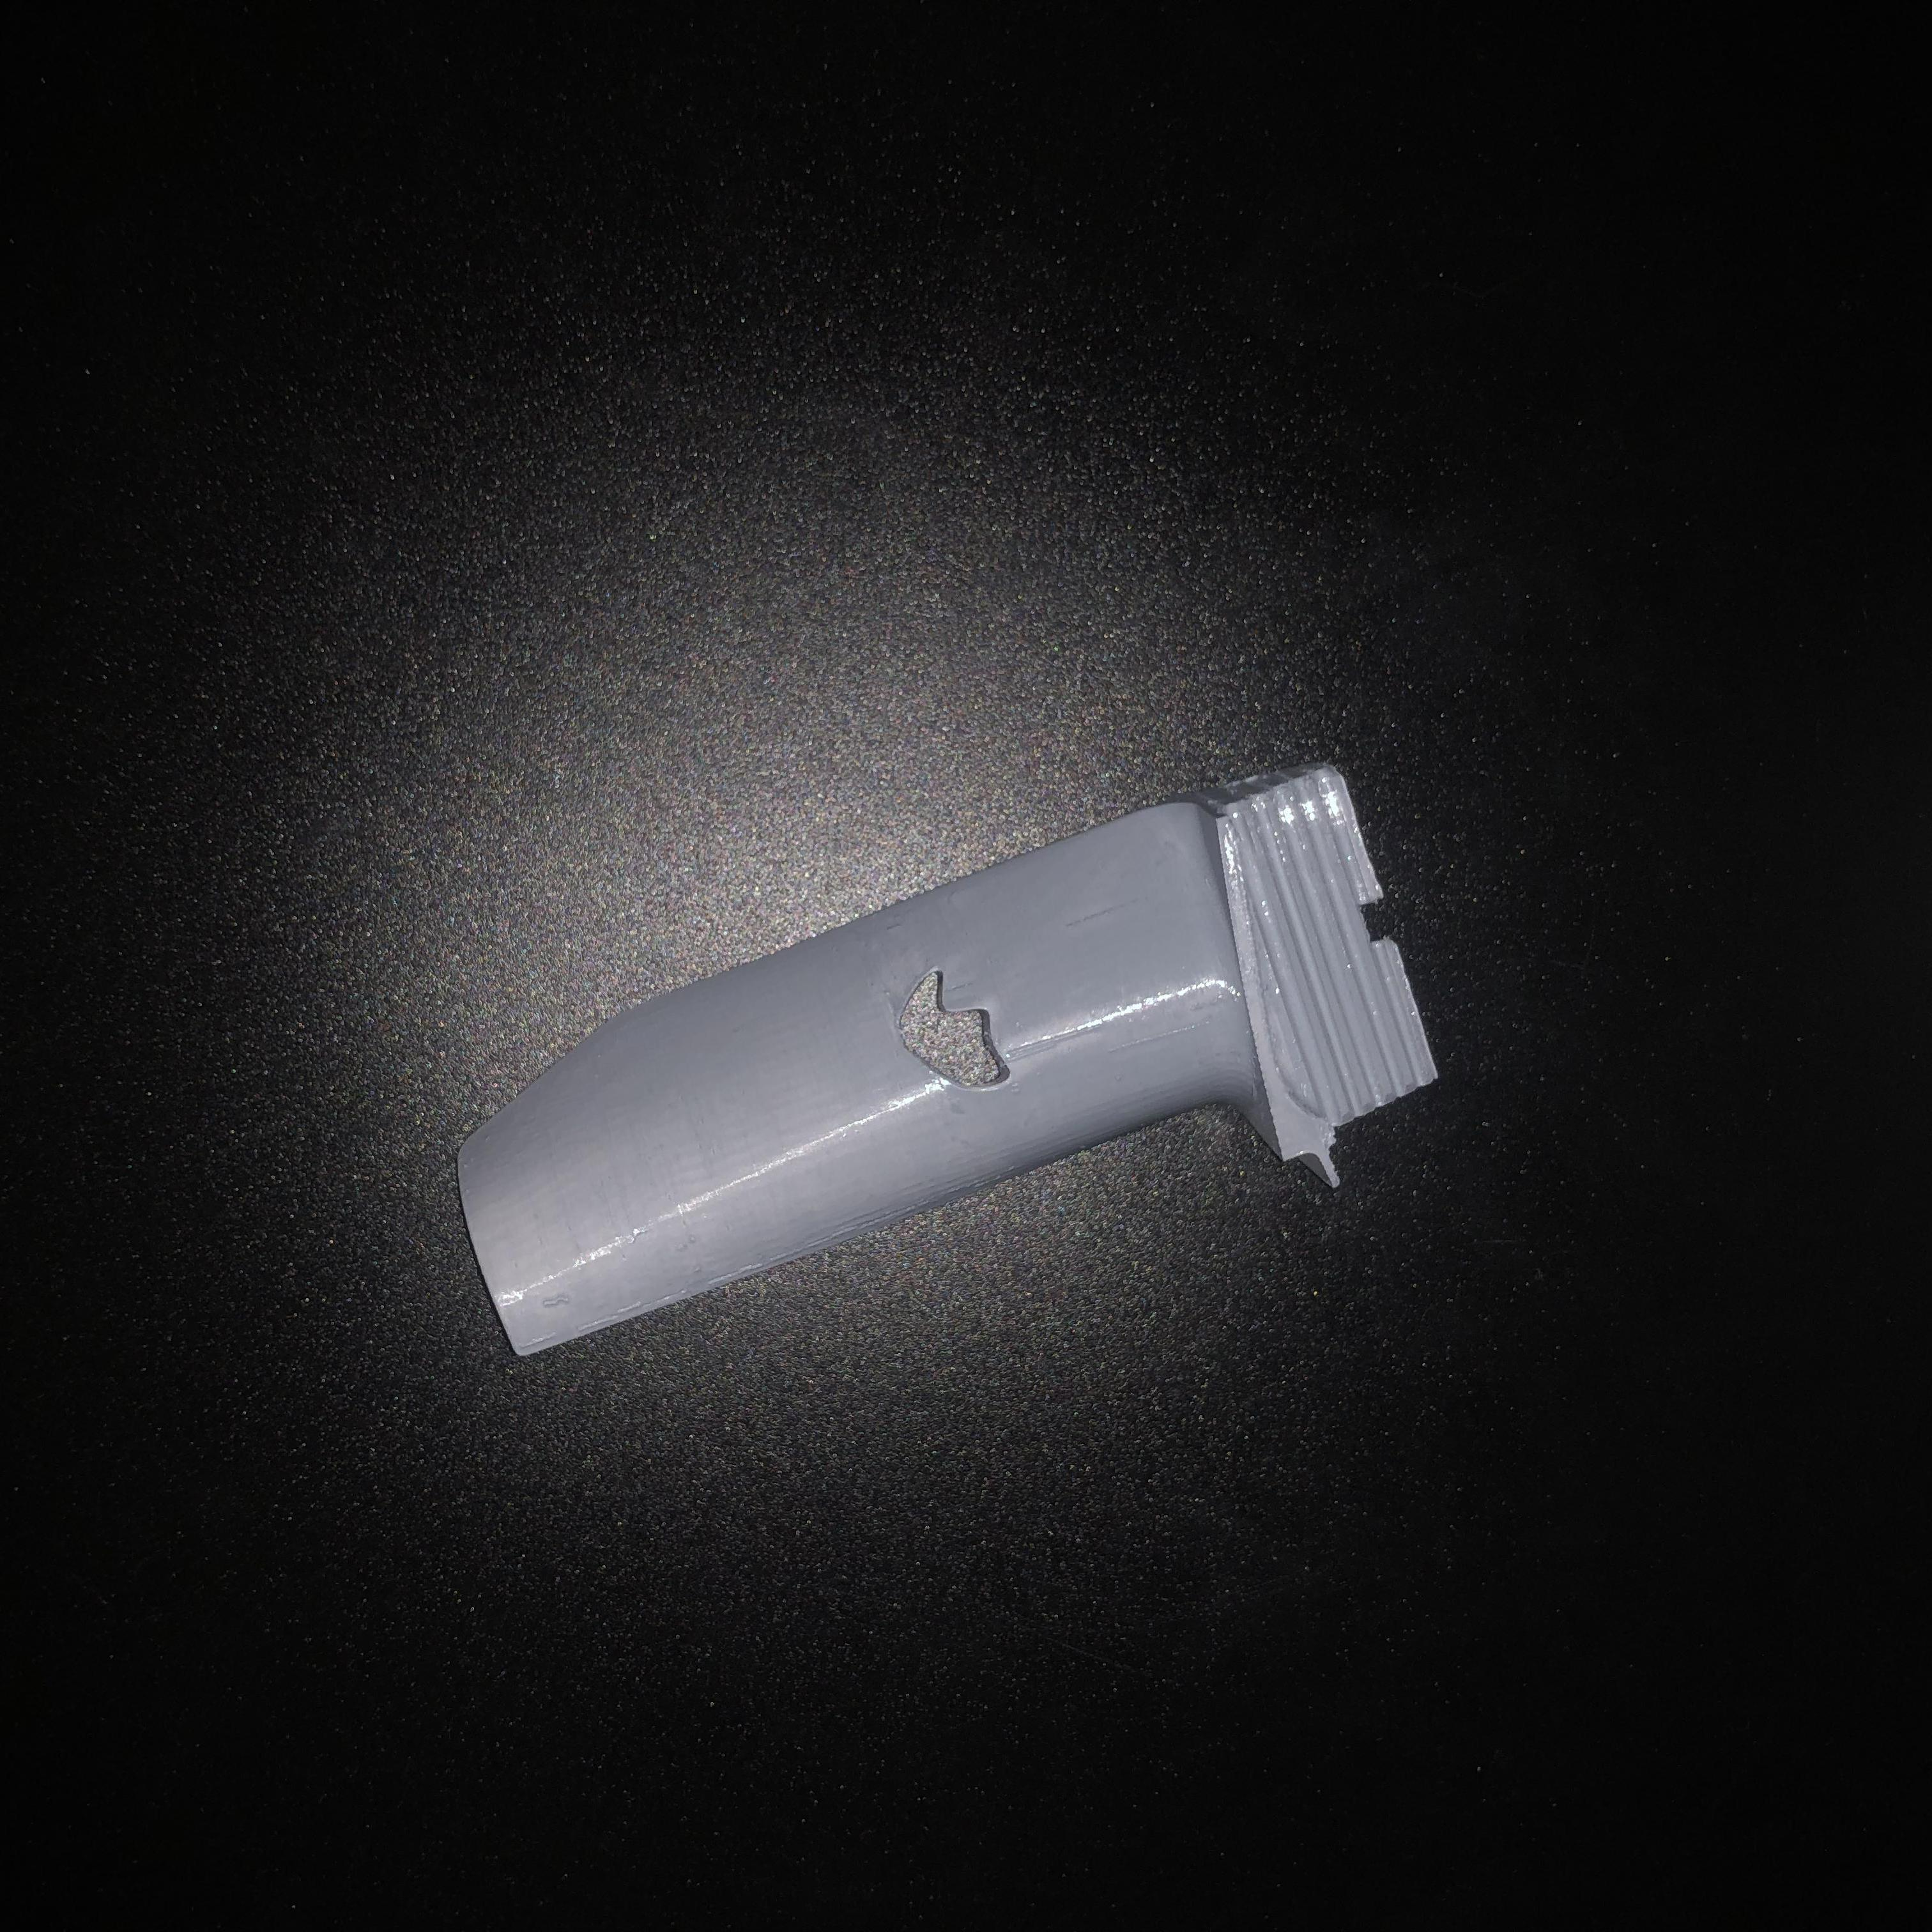breakdown: (899, 968, 1017, 1092)
